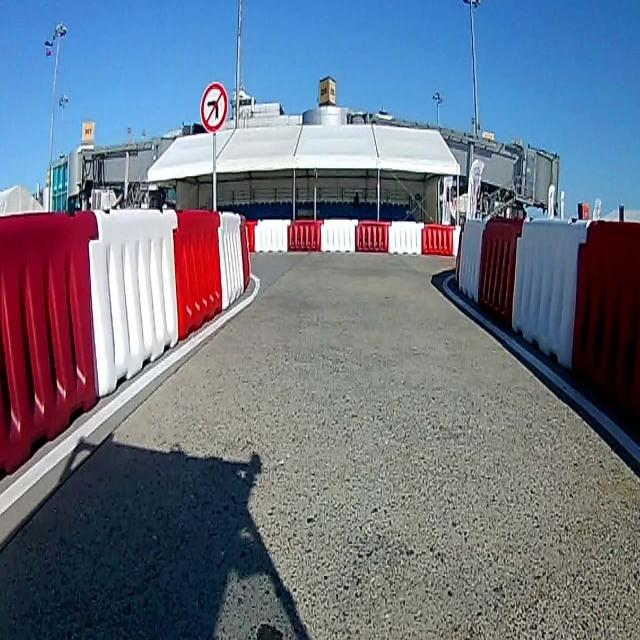soladonulmez: (200, 81, 228, 131)
